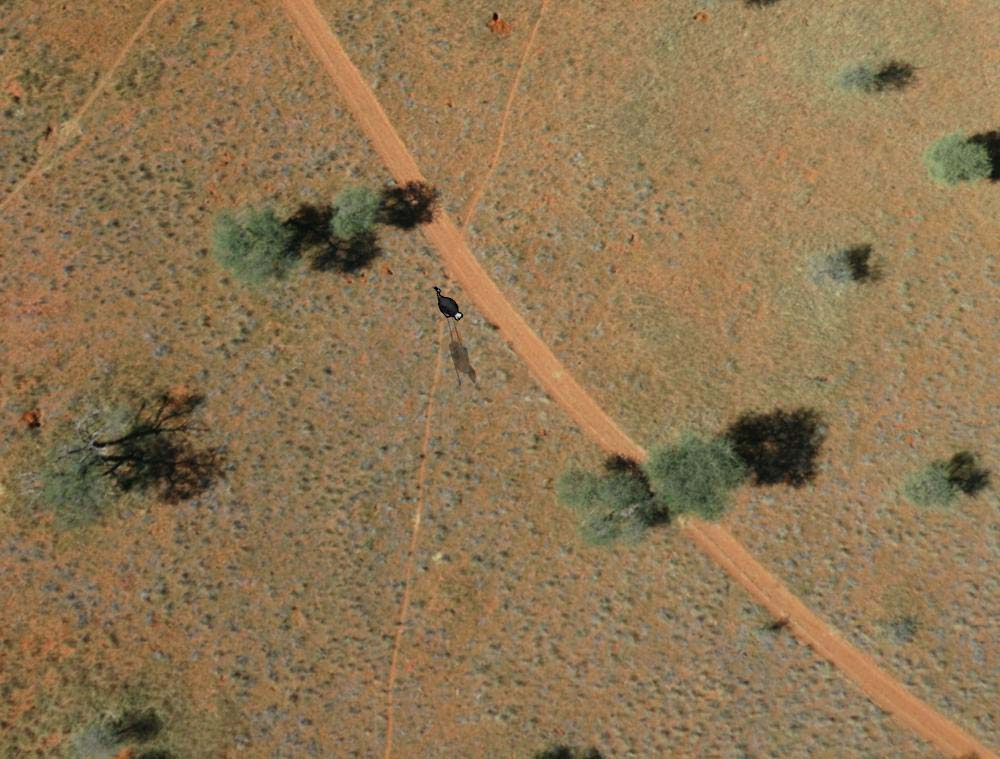springbok: (433, 283, 465, 320)
